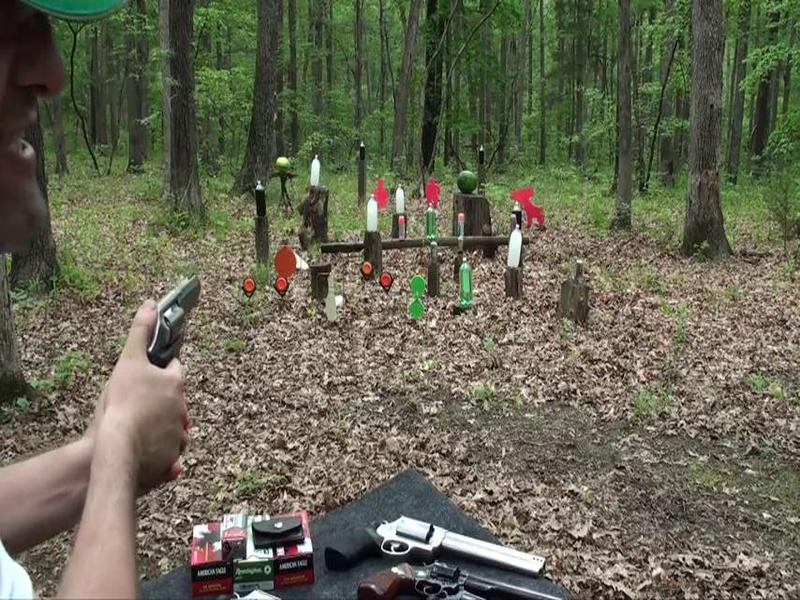Revolver: (123, 264, 211, 376)
